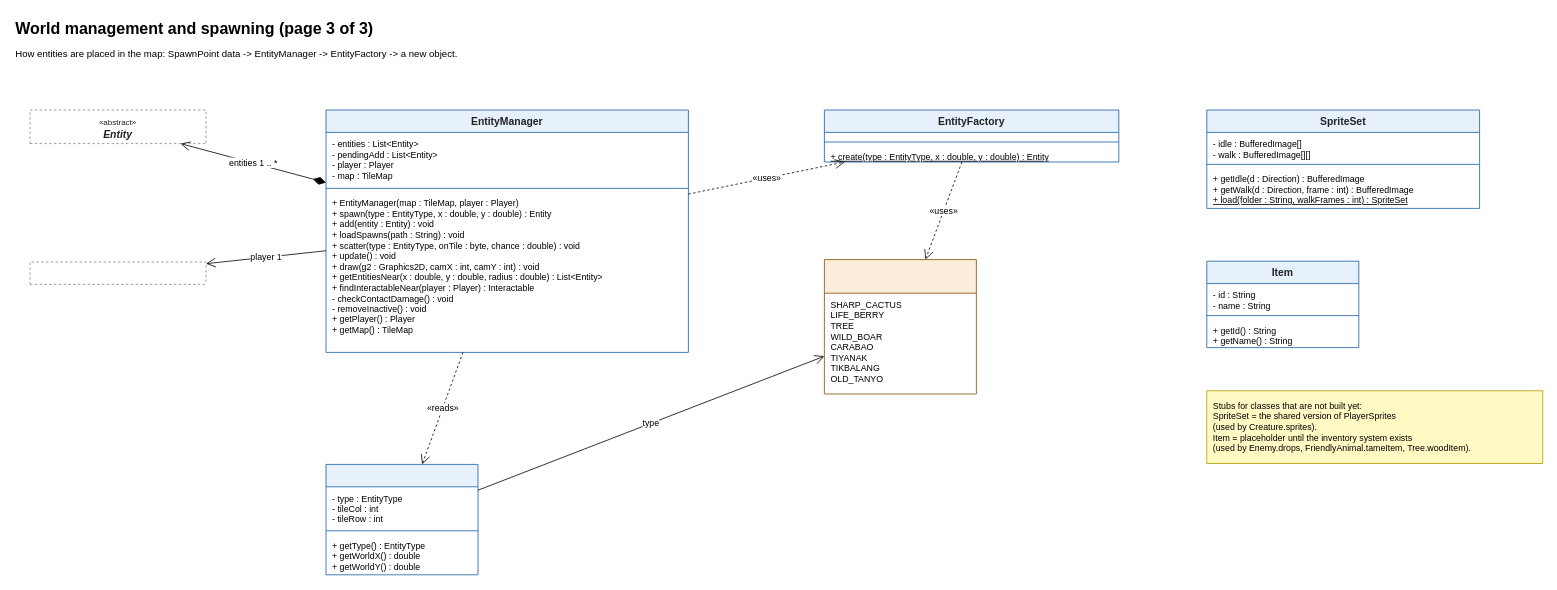
Image size: 1557x590. Some labels were removed from this diagram. Each missing label, with the box of its shape:
Player: (29, 261, 206, 284)
SpawnPoint: (325, 464, 478, 575)
«enumeration» EntityType: (824, 259, 976, 394)
